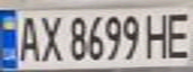6: (84, 11, 106, 61)
8: (63, 11, 87, 62)
9: (121, 11, 145, 61), (103, 11, 124, 62)
A: (12, 11, 42, 62)
E: (160, 7, 193, 60)
H: (142, 8, 172, 60)
X: (36, 11, 66, 62)
